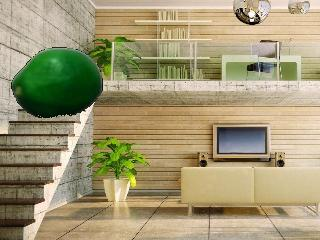lime: (9, 43, 108, 121)
